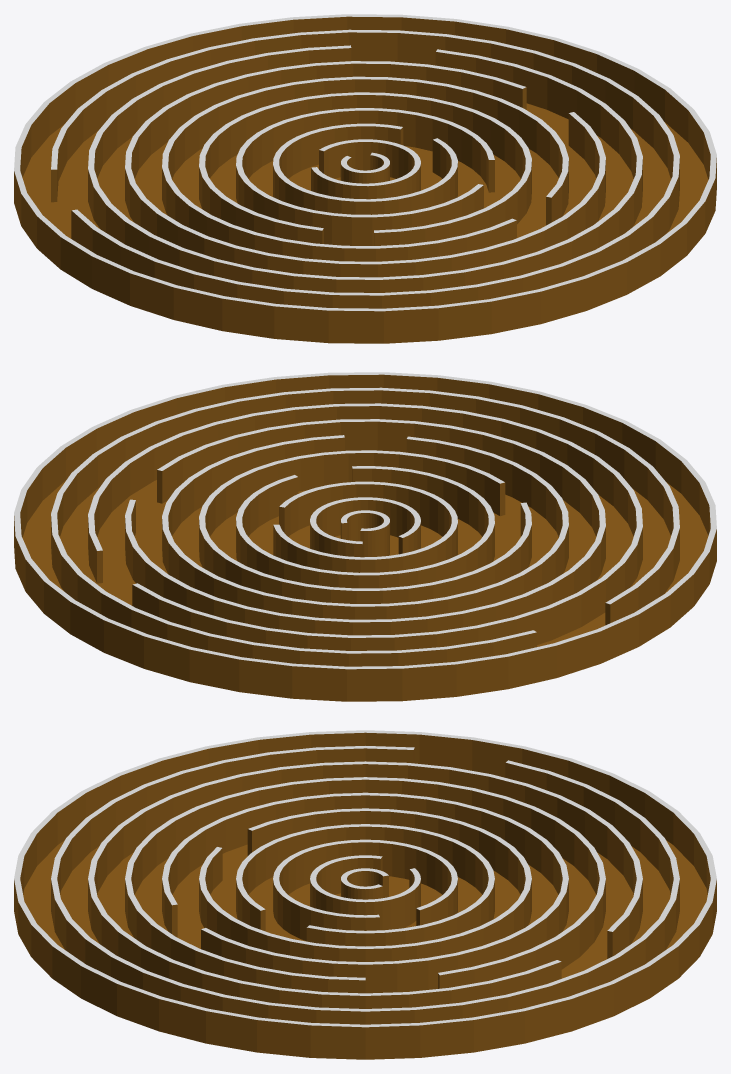
Rendered from maze level 7.fbx.
3 views of the same model, one above another, from view 1: azimuth 30°, elevation 25°; view 2: azimuth 150°, elevation 25°; view 3: azimuth 270°, elevation 25° (orthographic).
Parts seen in each view (by area): view 1: Vert; view 2: Vert; view 3: Vert.
Part boxes in pixels (x1,y1,x2,y2): Vert: (14,14,716,343); Vert: (14,372,716,701); Vert: (14,730,716,1059).
Bounding box in the file's own units: 490 × 25 × 490.
